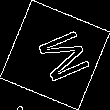M_SW: (23, 24, 87, 86)
